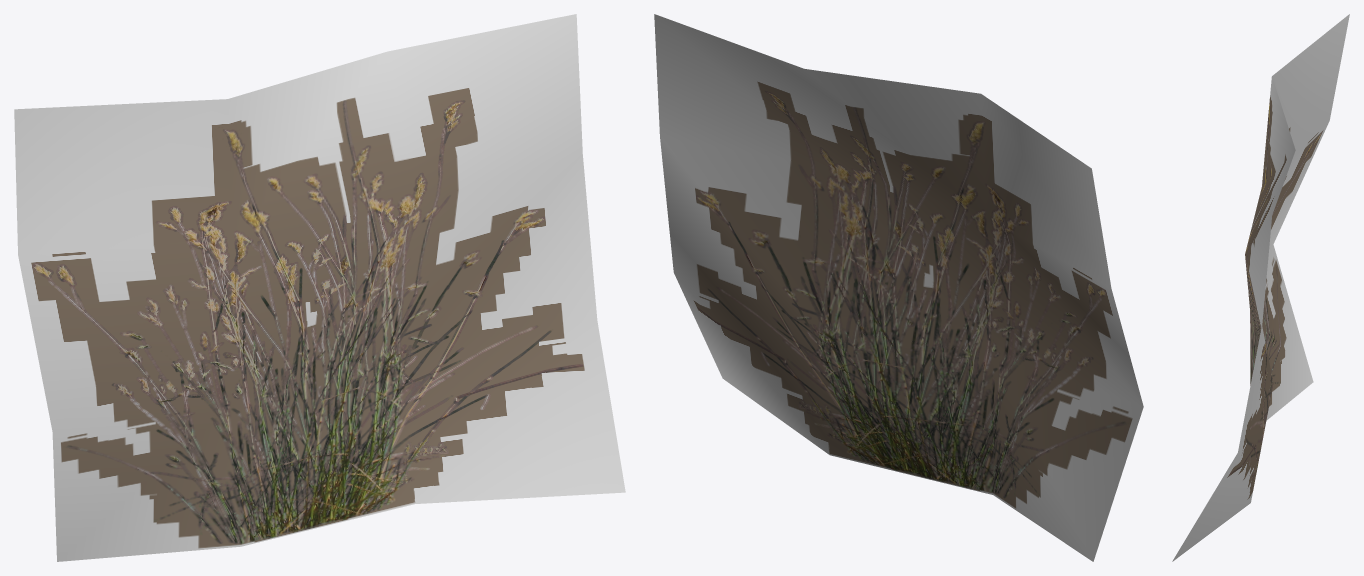
The model's file is Grass_ (6).FBX.
3 views of the same model, side by side, from view 1: azimuth 30°, elevation 25°; view 2: azimuth 150°, elevation 25°; view 3: azimuth 270°, elevation 25° (orthographic). The views are drawn at different scales.
Visible parts, largest first — view 1: Grass_ (6); view 2: Grass_ (6); view 3: Grass_ (6).
Boxes of the visible parts, x1,y1,x2,y2 form: Grass_ (6): [14, 14, 625, 561]; Grass_ (6): [654, 14, 1143, 561]; Grass_ (6): [1172, 14, 1349, 561].
Size of the model in its own units: 62.46 by 22.54 by 50.87.
Materials: 1 (1 with a texture image).
